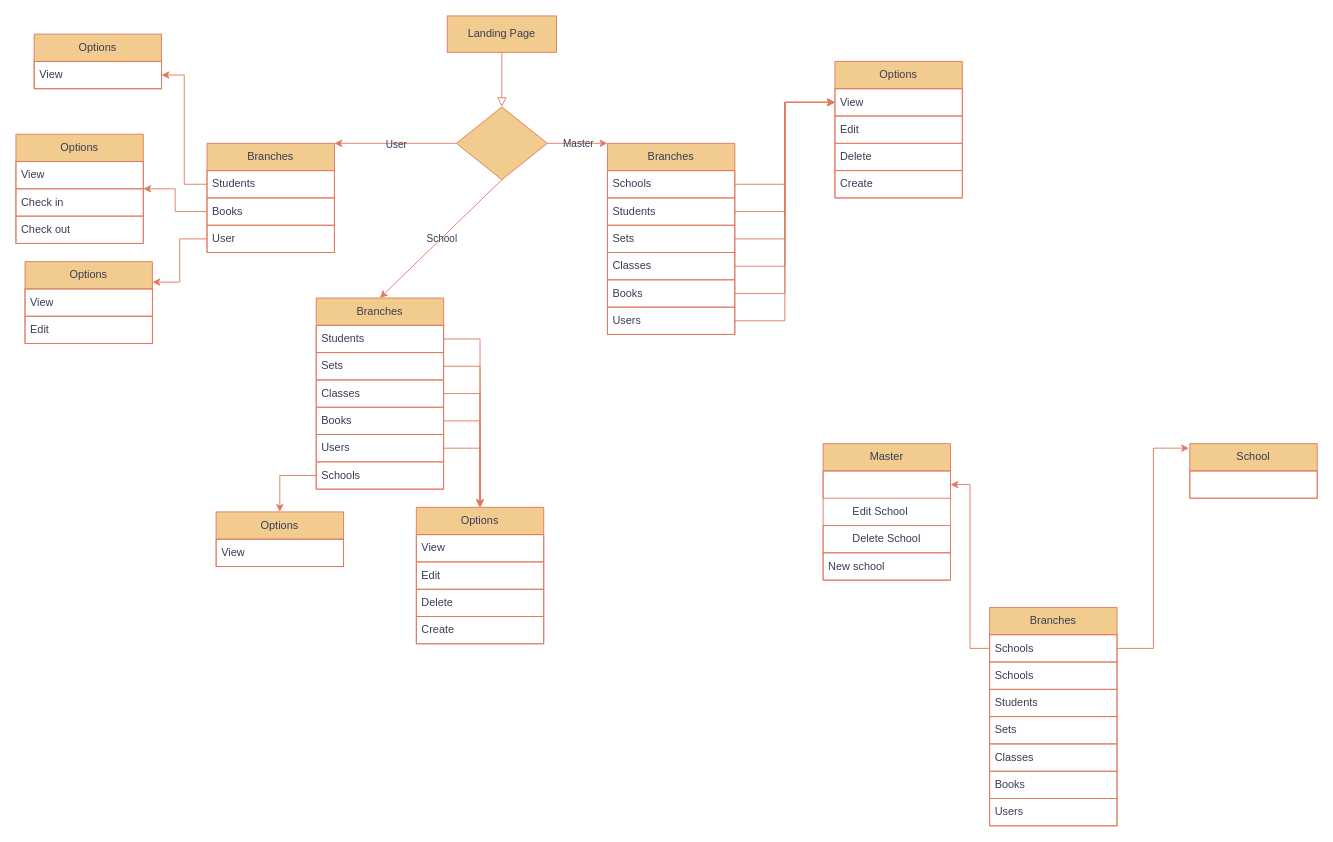
This 1333x842 diagram has some shape labels left out. Here are the shapes that lost their labels. From the top down, the centre of each, then its label:
(501,143): token select Login
(886,484): School List
(1253,484): View All
